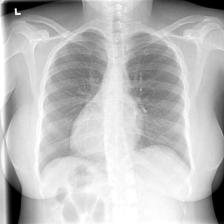normal: (35, 26, 195, 187)
